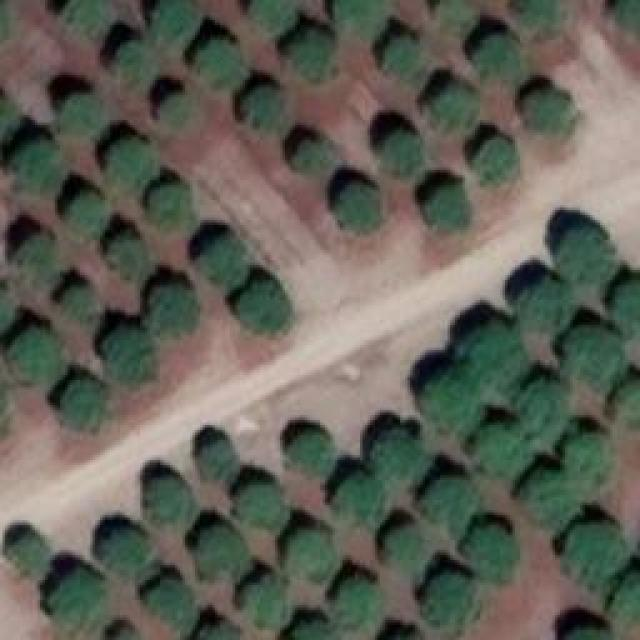Tree: (460, 325, 523, 388), (565, 523, 625, 588), (565, 328, 623, 391), (5, 328, 65, 383), (423, 375, 483, 430), (473, 425, 533, 478), (528, 470, 581, 528), (105, 330, 155, 385), (425, 573, 475, 628), (473, 38, 526, 88), (558, 230, 608, 283), (425, 480, 475, 533), (463, 525, 516, 575), (150, 285, 198, 338), (515, 385, 565, 435), (518, 283, 573, 328), (373, 430, 428, 475), (148, 580, 193, 635), (200, 238, 248, 288), (240, 285, 290, 333), (338, 477, 388, 525), (200, 527, 250, 575), (198, 38, 248, 83), (283, 533, 333, 578), (55, 570, 100, 620), (64, 380, 105, 433), (150, 0, 198, 45), (237, 483, 285, 528), (15, 143, 58, 193), (62, 0, 112, 42), (108, 140, 151, 188), (338, 185, 381, 233), (100, 528, 145, 573), (290, 30, 330, 80), (333, 0, 383, 40), (568, 435, 608, 485), (433, 85, 476, 130), (475, 138, 518, 183), (425, 185, 470, 228), (243, 580, 286, 625), (150, 478, 195, 521), (382, 35, 420, 83), (68, 193, 108, 236), (115, 43, 155, 86), (380, 130, 423, 170), (335, 578, 375, 621), (290, 435, 333, 475), (60, 95, 105, 133), (150, 188, 190, 228), (245, 88, 283, 128), (387, 528, 425, 568), (18, 235, 53, 278), (525, 95, 568, 130), (200, 440, 238, 478), (250, 0, 295, 32), (108, 238, 143, 278), (612, 575, 640, 625), (615, 283, 640, 338), (13, 532, 46, 570), (612, 383, 640, 426), (437, 0, 472, 32), (298, 143, 331, 173), (285, 622, 338, 640), (0, 95, 20, 138), (563, 623, 613, 640), (160, 95, 188, 125), (523, 0, 556, 25), (620, 0, 640, 32), (65, 290, 90, 315)
